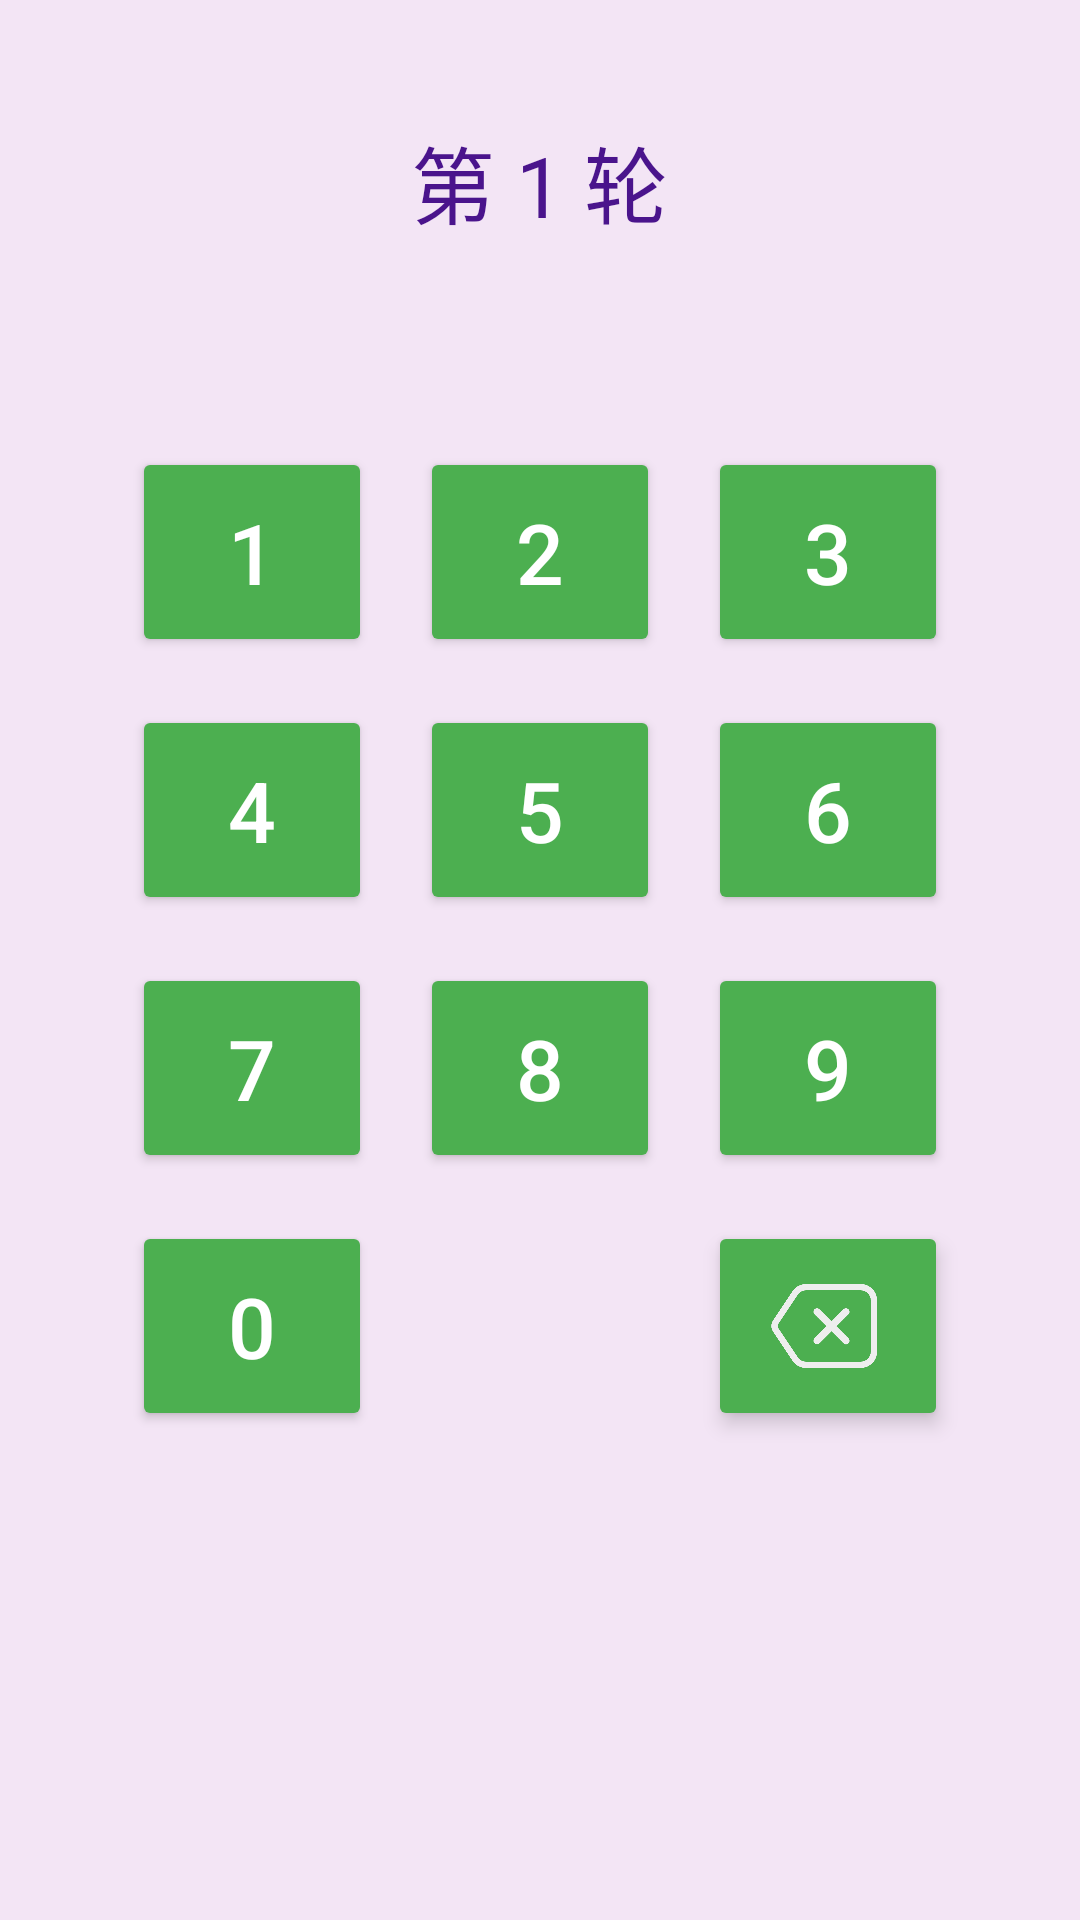

Icon click points for this 1080px×1920px phone screenshot, format (x=x, y=y):
backspace: (x=829, y=1329)
